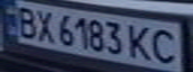1: (69, 15, 90, 51)
3: (103, 19, 127, 56)
6: (54, 11, 75, 47)
8: (84, 17, 106, 53)
B: (12, 3, 42, 38)
C: (148, 26, 184, 66)
K: (124, 21, 154, 62)
X: (30, 7, 57, 43)
